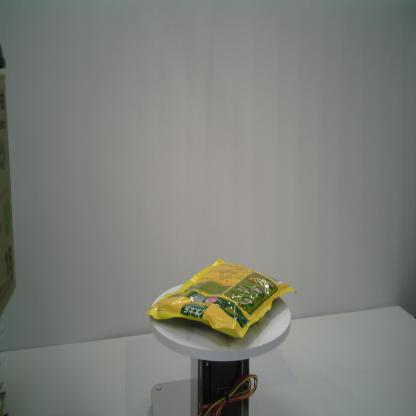Seasoner: (145, 258, 298, 338)
